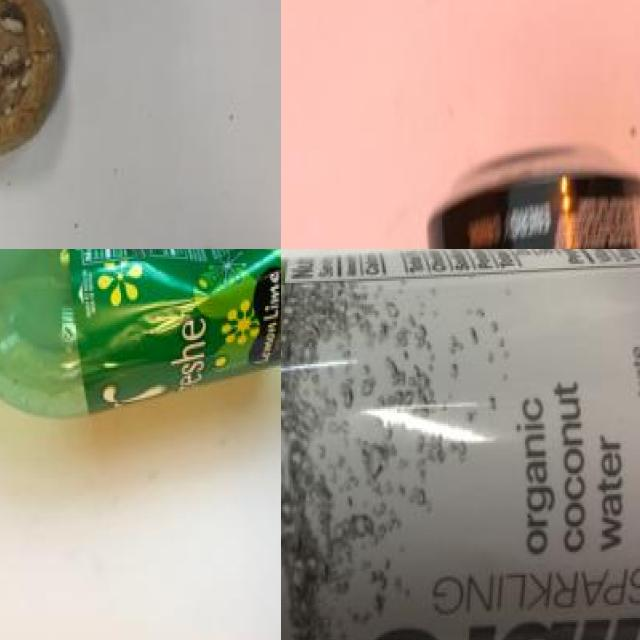compost: (0, 0, 84, 203)
plastic: (281, 253, 640, 640), (0, 249, 281, 404), (427, 141, 640, 249)
